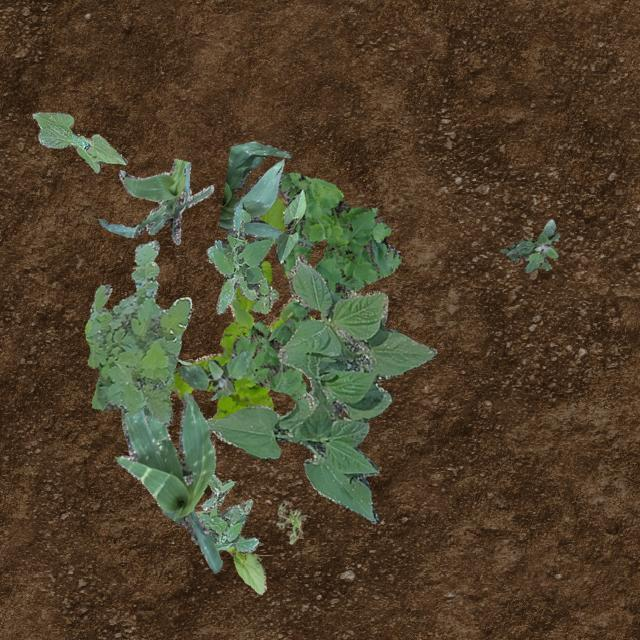crop: (205, 252, 436, 522), (115, 392, 221, 572), (218, 140, 310, 247), (98, 158, 212, 244), (177, 294, 296, 364), (234, 192, 286, 310), (194, 509, 266, 594), (32, 112, 126, 172), (274, 188, 304, 262)
weed: (230, 172, 400, 416), (84, 240, 190, 426), (172, 311, 292, 418), (206, 200, 278, 312), (190, 472, 258, 552), (176, 348, 248, 398), (499, 218, 558, 272), (276, 501, 306, 544)
